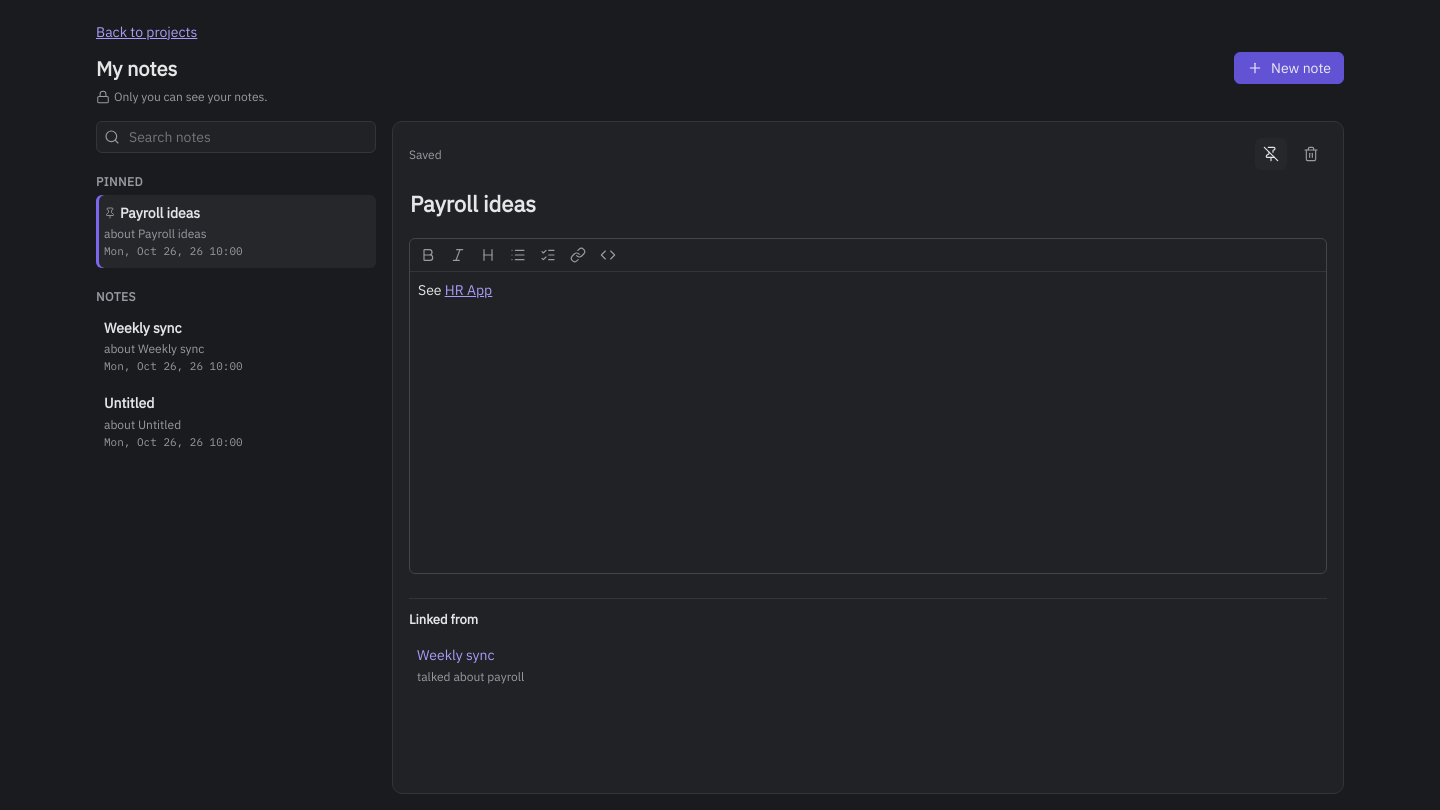
Scenario: NotesPage › refuses titles that would break [ [links]]
Replace the text in the field named "Title" with "a|b" at (864, 204), box [401,182,1327,226]
Then press Enter
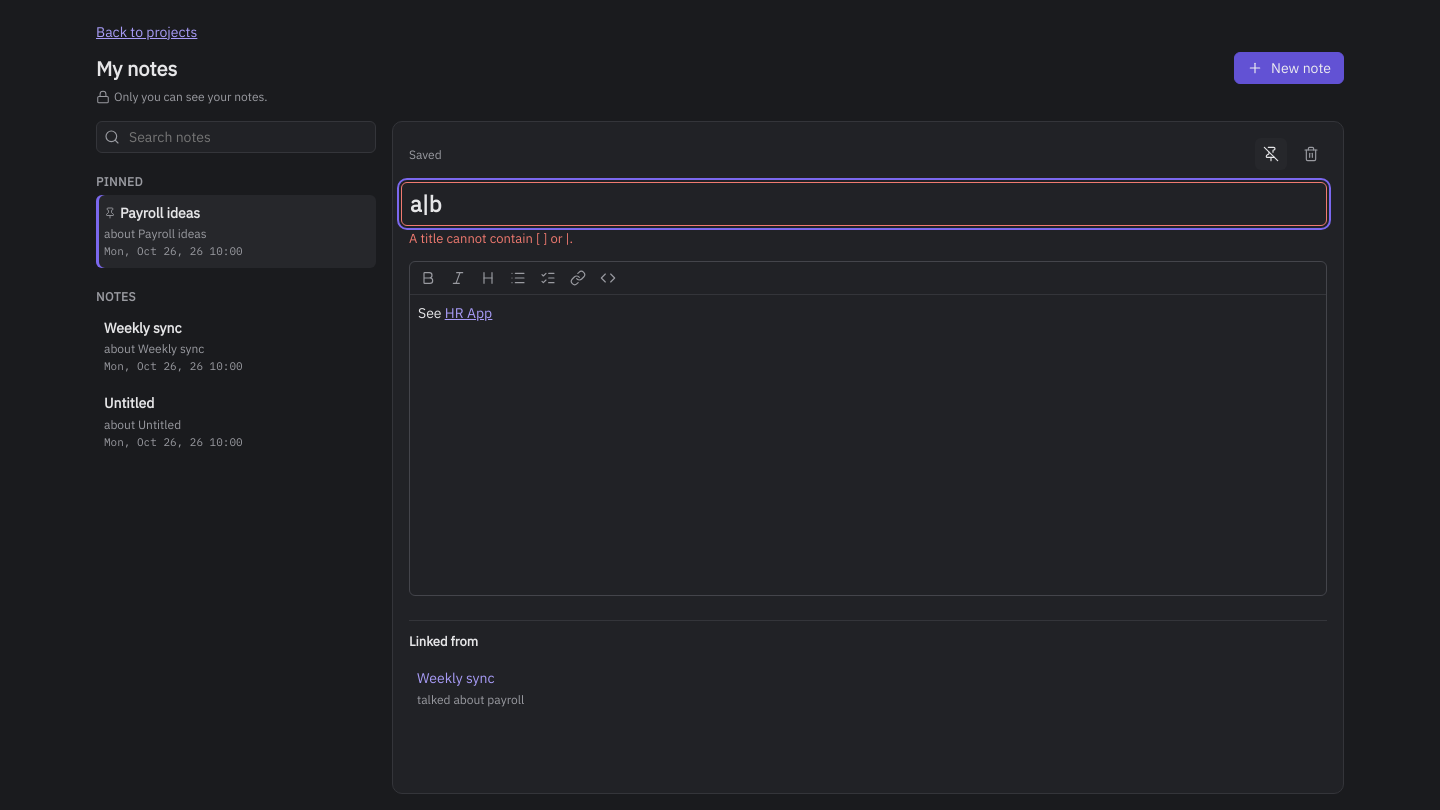
Result: the text "A title cannot contain [ ] or |." is shown at [409,230,573,247]
Clear the field named "Title" at (864, 204), box [401,182,1327,226]
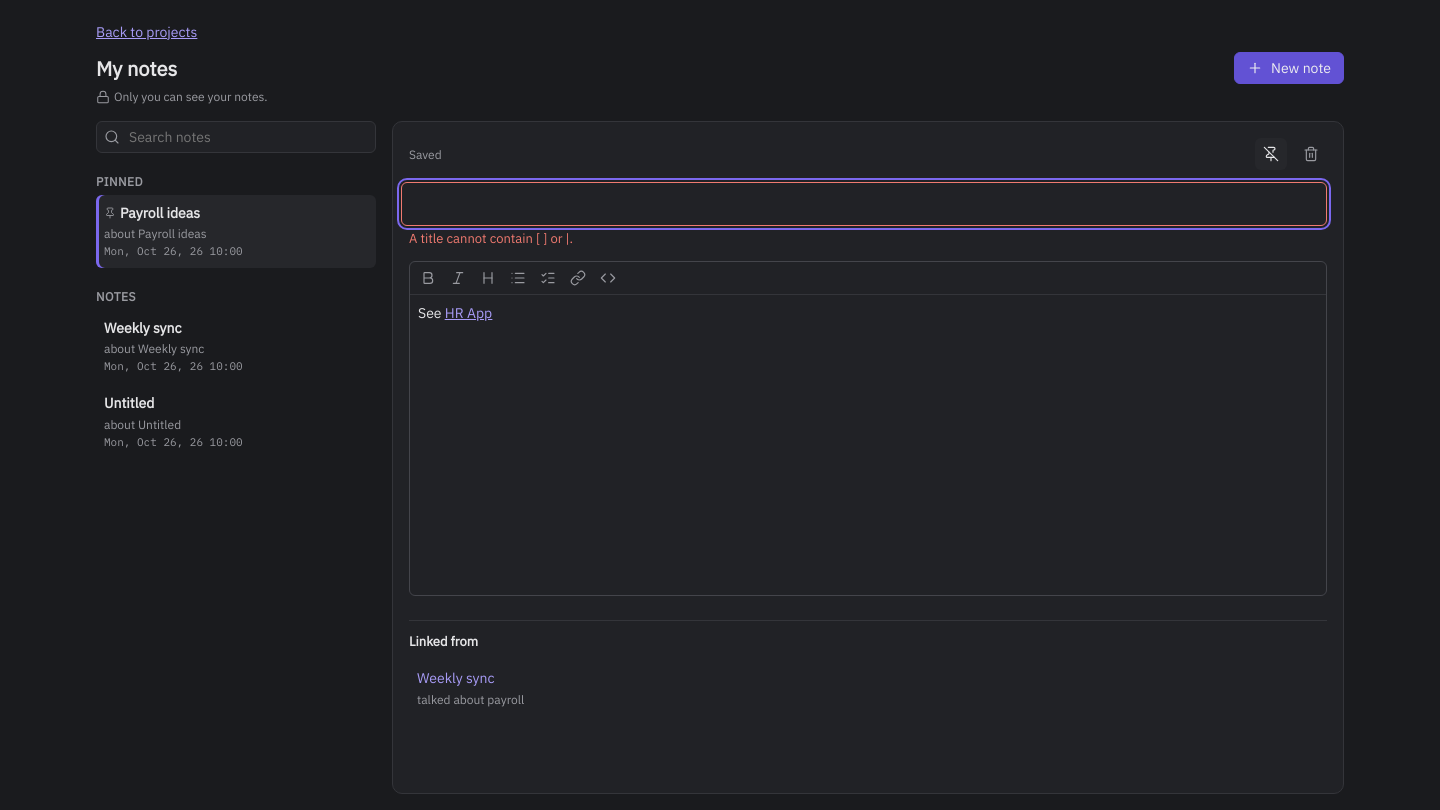
Press Enter
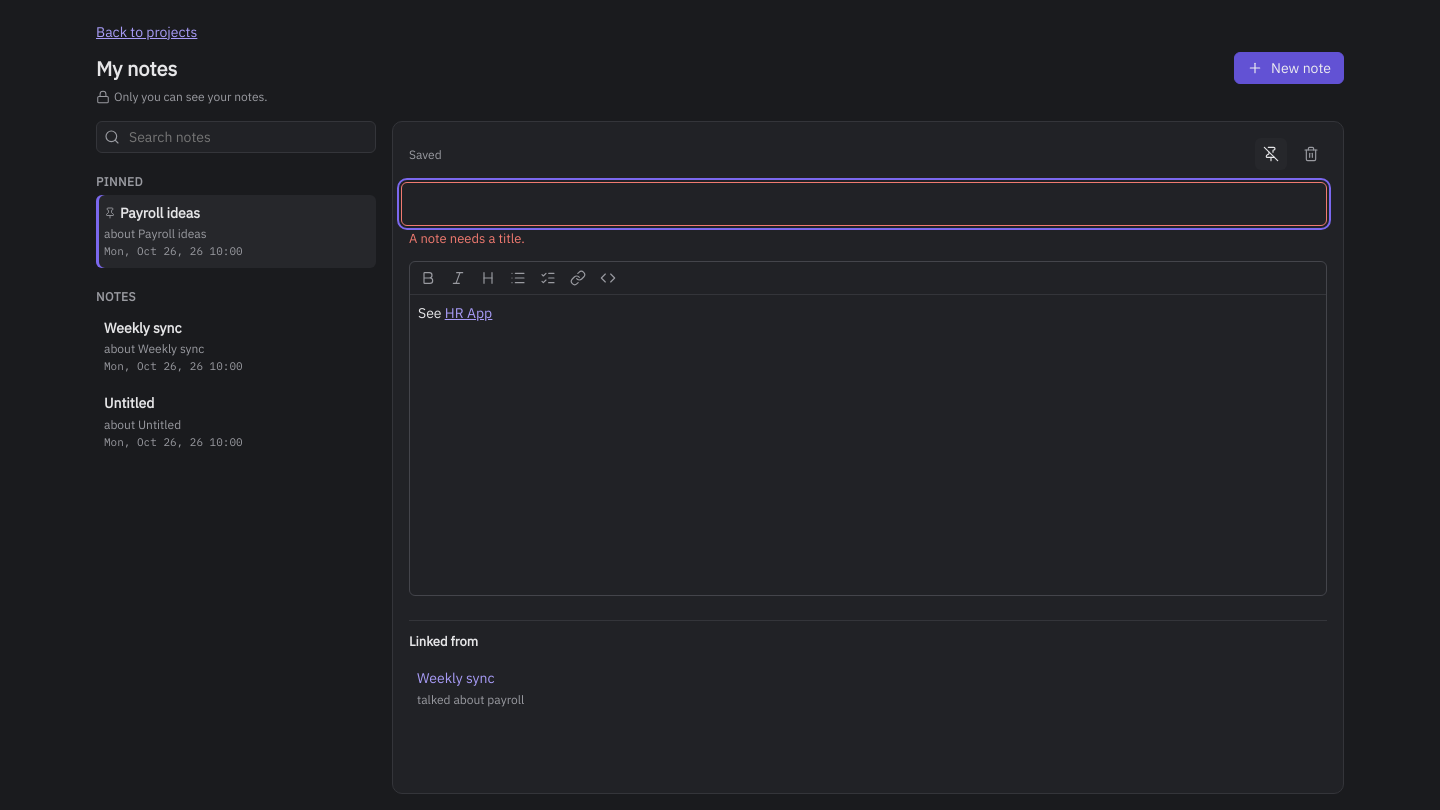
Result: the text "A note needs a title." is shown at [409,230,525,247]
